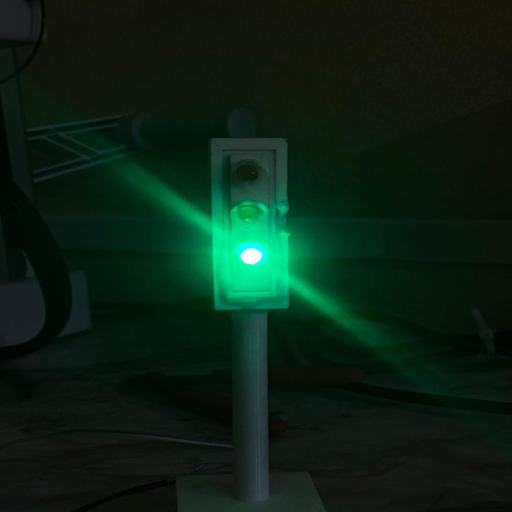Green Light: (240, 248, 262, 264)
